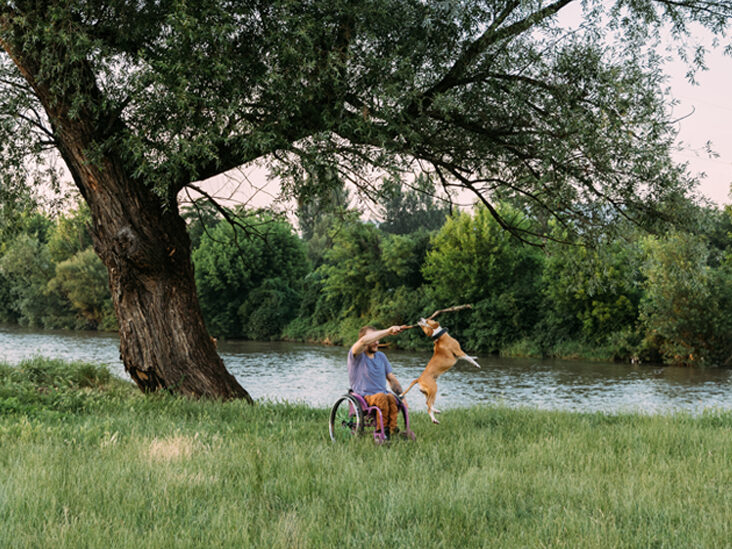wheelchair: (328, 326, 414, 442)
